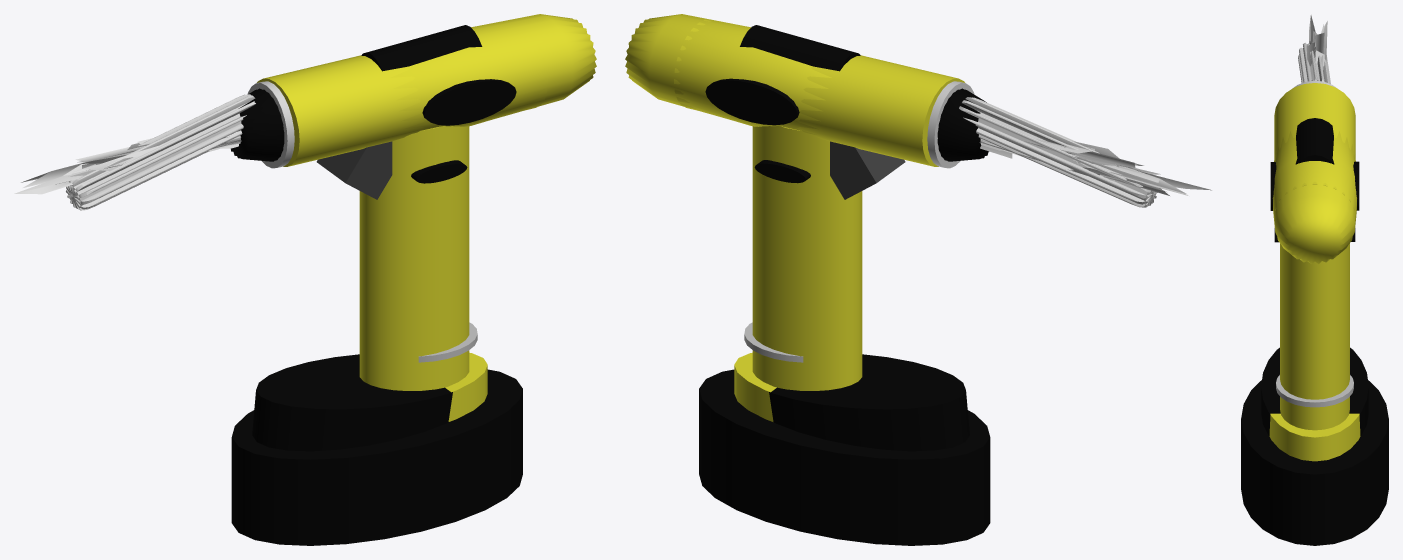
Rendered from furadeira.glb.
3 views of the same model, side by side, from view 1: azimuth 30°, elevation 25°; view 2: azimuth 150°, elevation 25°; view 3: azimuth 270°, elevation 25° (orthographic). The views are drawn at different scales.
Visible parts, largest first — view 1: Cylinder, Cylinder2, Cylinder9, Cylinder6, Cylinder3, Cylinder12, Cylinder4, Cylinder5, Cylinder10, Box, TorusKnot, Cylinder1 (+2 smaller); view 2: Cylinder, Cylinder2, Cylinder9, Cylinder6, Cylinder3, Cylinder12, Cylinder4, TorusKnot, Cylinder10, Box, Cylinder5, Cylinder1 (+2 smaller); view 3: Cylinder, Cylinder2, Cylinder6, Cylinder3, Cylinder1, Cylinder9, Cylinder10, Cylinder11, Cylinder12, TorusKnot, Cylinder4.
Boxes of the visible parts, bbox=[...] form: Cylinder: bbox=[231, 369, 522, 545]; Cylinder2: bbox=[359, 126, 469, 390]; Cylinder9: bbox=[252, 354, 452, 451]; Cylinder6: bbox=[390, 14, 596, 134]; Cylinder3: bbox=[257, 19, 548, 166]; Cylinder12: bbox=[66, 94, 255, 210]; Cylinder4: bbox=[422, 79, 516, 125]; Cylinder5: bbox=[231, 88, 284, 161]; Cylinder10: bbox=[361, 25, 482, 71]; Box: bbox=[316, 141, 392, 199]; TorusKnot: bbox=[14, 130, 241, 194]; Cylinder1: bbox=[445, 352, 487, 421]; Cylinder: bbox=[699, 369, 990, 545]; Cylinder2: bbox=[752, 126, 862, 390]; Cylinder9: bbox=[769, 354, 969, 451]; Cylinder6: bbox=[625, 14, 831, 134]; Cylinder3: bbox=[674, 19, 964, 166]; Cylinder12: bbox=[959, 97, 1157, 207]; Cylinder4: bbox=[705, 78, 799, 125]; TorusKnot: bbox=[979, 139, 1211, 195]; Cylinder10: bbox=[740, 25, 860, 71]; Box: bbox=[830, 141, 905, 199]; Cylinder5: bbox=[937, 88, 988, 161]; Cylinder1: bbox=[734, 352, 776, 421]; Cylinder: bbox=[1241, 380, 1388, 545]; Cylinder2: bbox=[1280, 243, 1349, 430]; Cylinder6: bbox=[1272, 131, 1356, 263]; Cylinder3: bbox=[1274, 83, 1355, 219]; Cylinder1: bbox=[1269, 413, 1360, 461]; Cylinder9: bbox=[1261, 347, 1368, 435]; Cylinder10: bbox=[1295, 118, 1334, 164]; Cylinder11: bbox=[1276, 375, 1353, 407]; Cylinder12: bbox=[1298, 40, 1330, 83]; TorusKnot: bbox=[1306, 15, 1327, 70]; Cylinder4: bbox=[1270, 161, 1359, 210].
Size of the model in its own units: 3.68 by 2.78 by 1.
